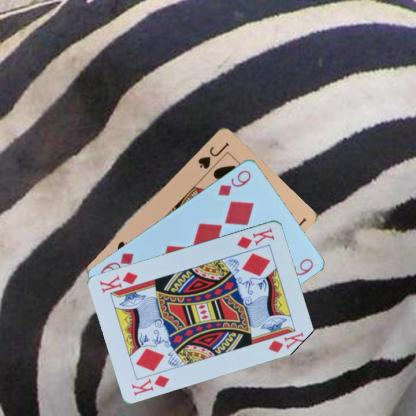9d: (215, 167, 252, 197)
Js: (195, 139, 231, 170)
Kd: (234, 225, 276, 250), (129, 372, 171, 397)
